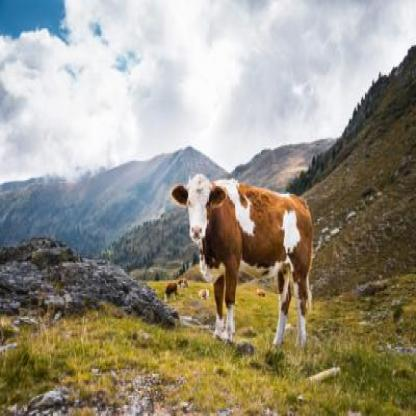lower: (195, 242, 200, 243)
mouth: (189, 223, 205, 245)
upper: (195, 232, 198, 235)
